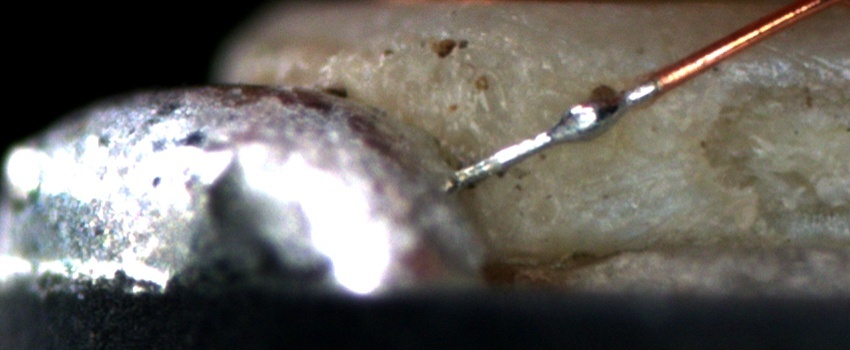DL: (699, 41, 850, 105)
TB: (557, 88, 627, 150)
TS: (453, 79, 657, 184)
TTCW: (452, 46, 706, 189)
